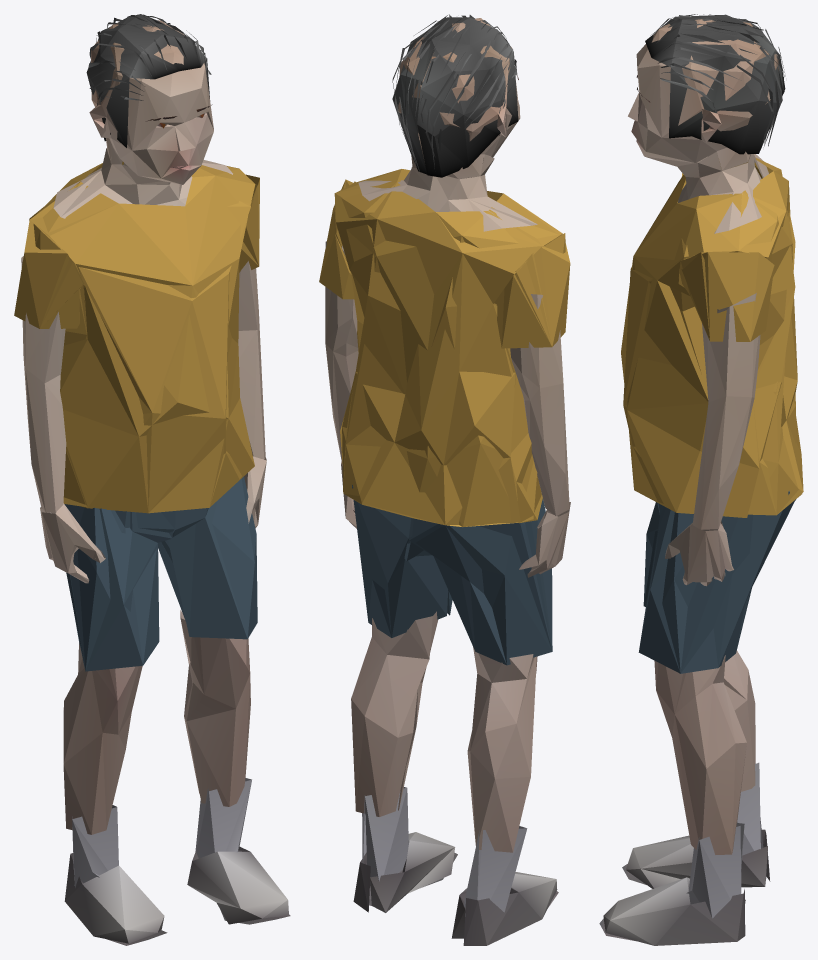
File: person-5-far.glb
3 renders of one model, left to right at view 1: azimuth 30°, elevation 25°; view 2: azimuth 150°, elevation 25°; view 3: azimuth 270°, elevation 25°, orthographic.
Visible parts, largest first — view 1: person-5 far; view 2: person-5 far; view 3: person-5 far.
Part boxes in pixels (x1=…): person-5 far: x1=14, y1=14, x2=290, y2=945; person-5 far: x1=319, y1=14, x2=570, y2=945; person-5 far: x1=599, y1=14, x2=803, y2=945.
Bounding box in the file's own units: 0.3153 × 1.12 × 0.2351.
